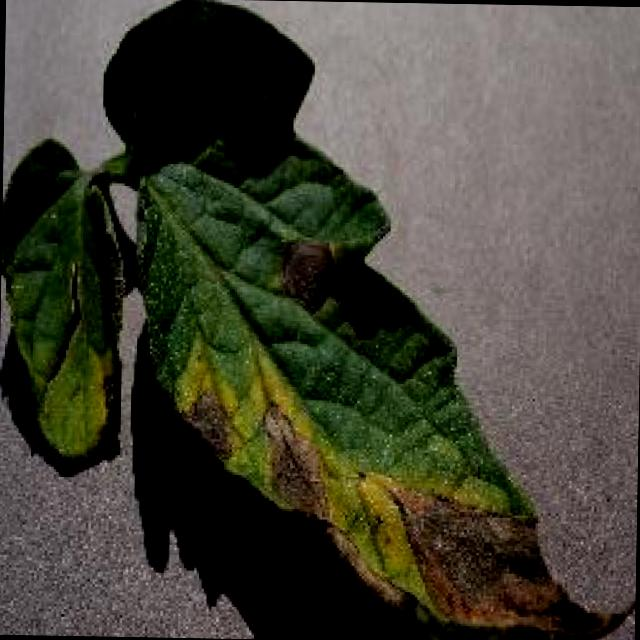leaf blight: (1, 0, 635, 640)
